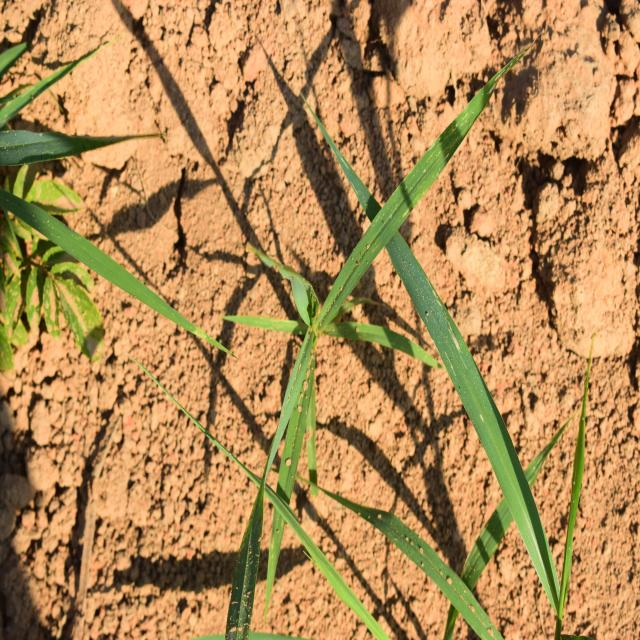green_foxtail: (228, 110, 440, 532), (378, 258, 602, 636)
